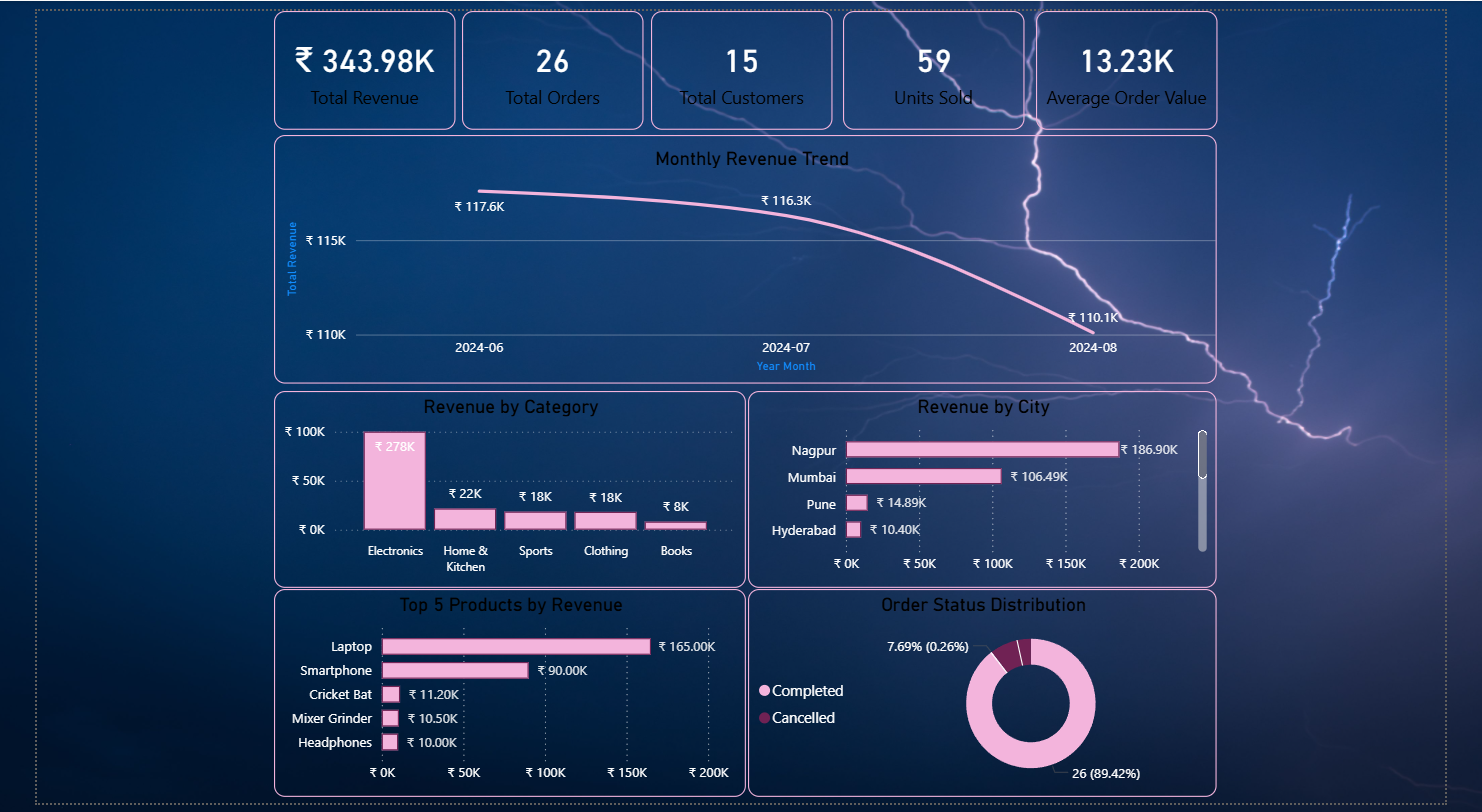

This screenshot's page, from the dashboard's own definition file:
{"tool":"powerbi","page":{"name":"Executive Sales Dashboard","canvas":[1280,720],"ordinal":0},"visuals":[{"type":"card","fields":{"Values":["Measure.Total Revenue"]},"box":[215.5,0,164.5,108.2],"z":0},{"type":"card","fields":{"Values":["Measure.Total Order"]},"box":[386.4,0,164.5,108.2],"z":1000},{"type":"card","fields":{"Values":["Measure.Total Customers"]},"box":[557.7,0,164.5,108.2],"z":2000},{"type":"card","fields":{"Values":["Measure.Units Sold"]},"box":[732.7,0,164.5,108.2],"z":3000},{"type":"card","fields":{"Values":["Measure.Average Order Value"]},"box":[908.2,0,164.5,108.2],"z":4000},{"type":"lineChart","title":"Monthly Revenue Trend","fields":{"Category":["DateTable.Year Month"],"Y":["Measure.Total Revenue"]},"box":[215.5,112.7,857.3,226.4],"z":5000},{"type":"clusteredColumnChart","title":"Revenue by Category","fields":{"Category":["Categories.CategoryName"],"Y":["Measure.Total Revenue"]},"box":[215.5,345.5,429.1,179.1],"z":6000},{"type":"clusteredBarChart","title":"Revenue by City","fields":{"Category":["Customers.City"],"Y":["Measure.Total Revenue"]},"box":[646.4,345.5,426.4,179.1],"z":7000},{"type":"clusteredBarChart","title":"Top 5 Products by Revenue","fields":{"Category":["Products.ProductName"],"Y":["Measure.Total Revenue"]},"box":[215.5,525,429.1,189.1],"z":8000},{"type":"donutChart","title":"Order Status Distribution","fields":{"Category":["Orders.OrderStatus"],"Y":["CountNonNull(Orders.OrderID)","Measure.Cancellation Rate"]},"box":[646.4,525,426.4,189.1],"z":9000}]}

Visuals, with their boxes in screenshot pixels (x1, y1, x2, y2), scaled from the page's 1280x720 canvas onto the 1482x812 screenshot:
card - Measure.Total Revenue: 250:0:440:122
card - Measure.Total Order: 447:0:638:122
card - Measure.Total Customers: 646:0:836:122
card - Measure.Units Sold: 848:0:1039:122
card - Measure.Average Order Value: 1052:0:1242:122
"Monthly Revenue Trend" lineChart: 250:127:1242:382
"Revenue by Category" clusteredColumnChart: 250:390:746:592
"Revenue by City" clusteredBarChart: 748:390:1242:592
"Top 5 Products by Revenue" clusteredBarChart: 250:592:746:805
"Order Status Distribution" donutChart: 748:592:1242:805
